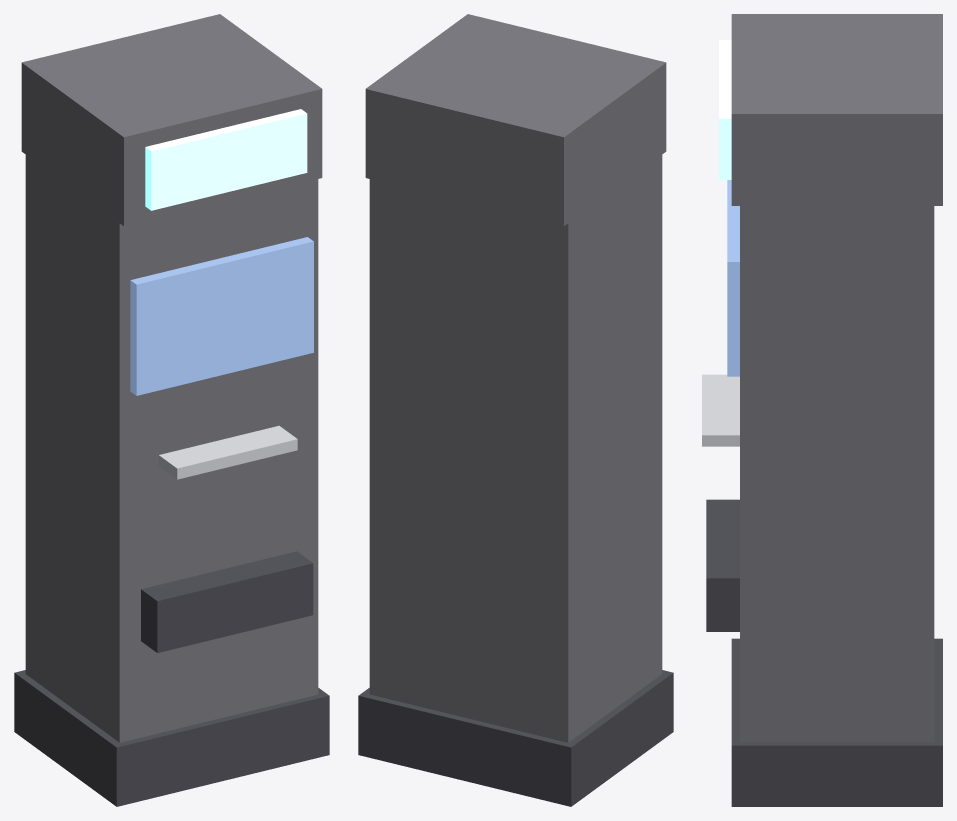
The model's file is casino-floor-and-back-rooms-change-machine-4c293b59__27021.glb.
3 views of the same model, side by side, from view 1: azimuth 30°, elevation 25°; view 2: azimuth 150°, elevation 25°; view 3: azimuth 270°, elevation 25° (orthographic). The views are drawn at different scales.
Parts seen in each view (by area): view 1: change-machine; view 2: change-machine; view 3: change-machine.
Boxes of the visible parts, <box> form: change-machine: <box>14,14,329,806</box>; change-machine: <box>358,14,673,806</box>; change-machine: <box>702,14,942,806</box>.
Bounding box in the file's own units: 0.6 × 1.8 × 0.57.
